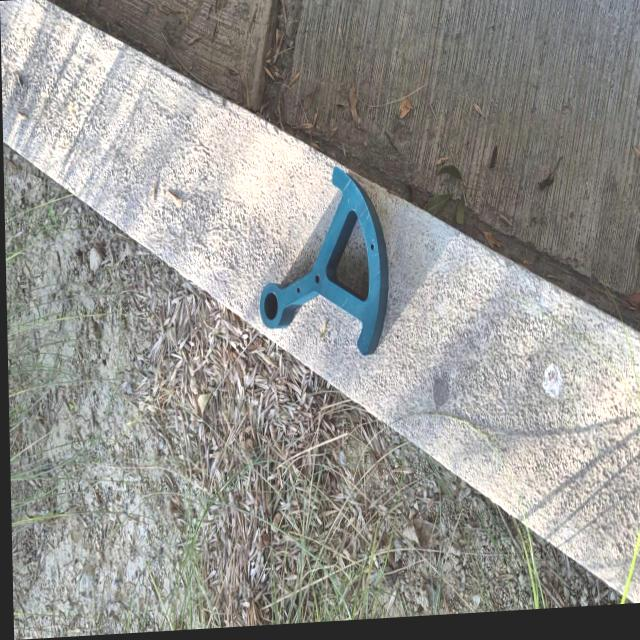haptic: (256, 161, 391, 362)
